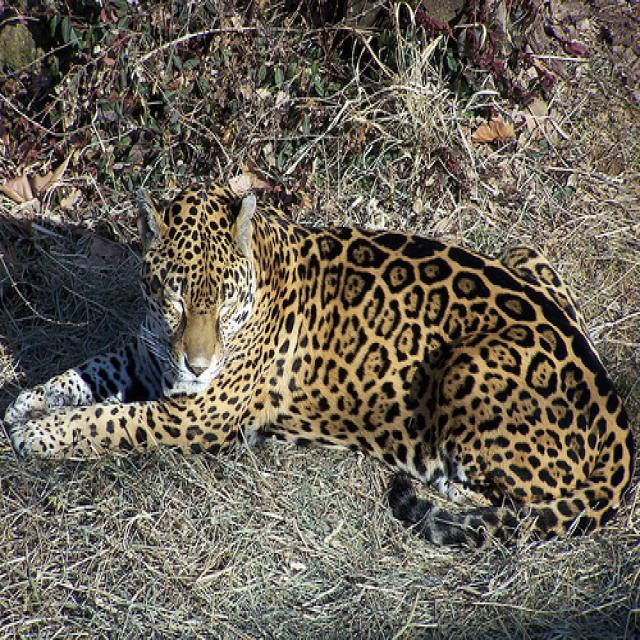Leopard: (0, 176, 632, 548)
